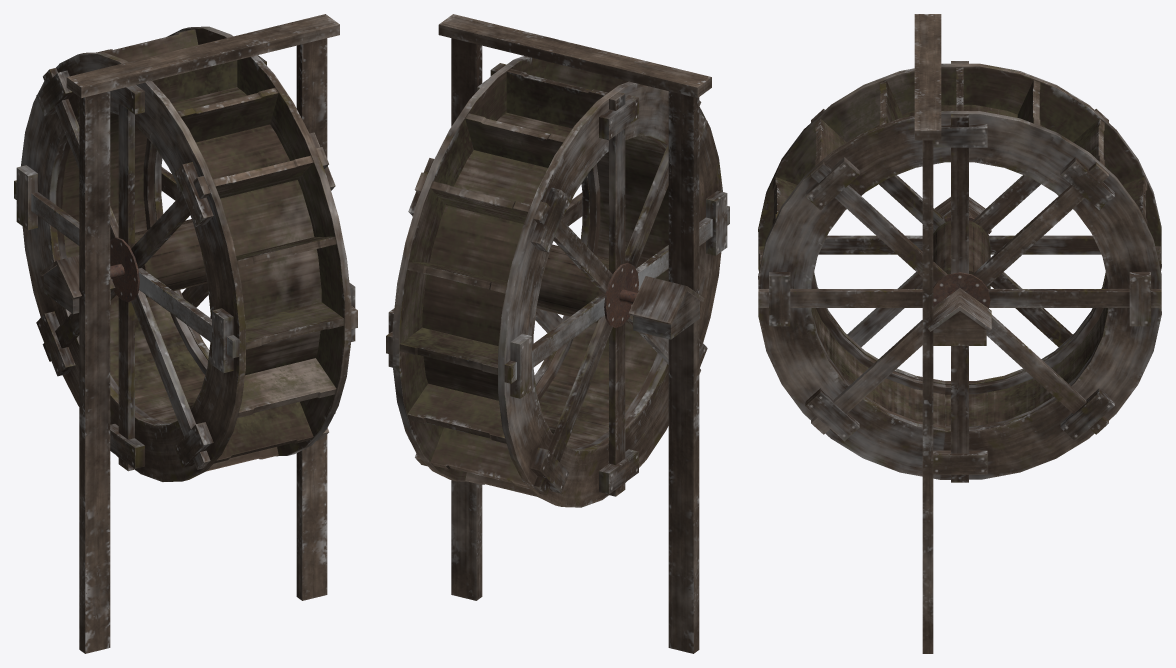
File: SM_Waterwheel.fbx
3 views of the same model, side by side, from view 1: azimuth 30°, elevation 25°; view 2: azimuth 150°, elevation 25°; view 3: azimuth 270°, elevation 25° (orthographic). The views are drawn at different scales.
Visible parts, largest first — view 1: SM_Waterwheel; view 2: SM_Waterwheel; view 3: SM_Waterwheel.
Boxes of the visible parts, box(x1,y1,x2,y2) form: SM_Waterwheel: box(14, 14, 357, 653); SM_Waterwheel: box(386, 14, 729, 653); SM_Waterwheel: box(758, 14, 1161, 653).
Size of the model in its own units: 155 by 227 by 327.
Materials: 1 (1 with a texture image).
